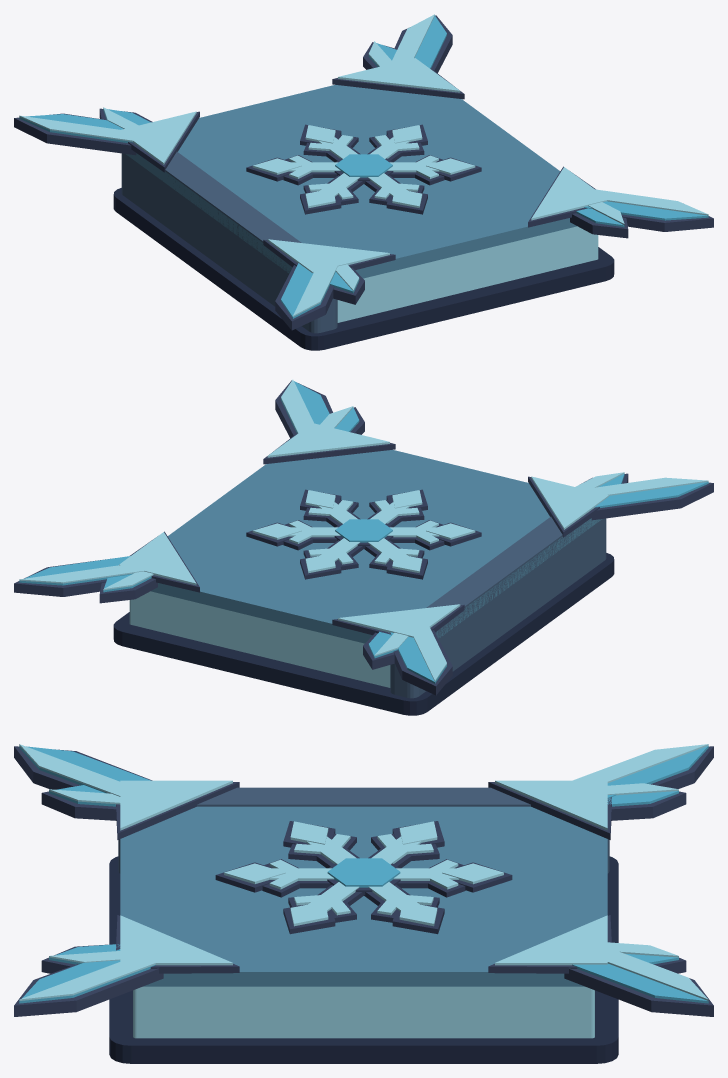
Rendered from book_gelo.fbx.
3 views of the same model, one above another, from view 1: azimuth 30°, elevation 25°; view 2: azimuth 150°, elevation 25°; view 3: azimuth 270°, elevation 25° (orthographic). The views are drawn at different scales.
Visible parts, largest first — view 1: book_gelo_livro; view 2: book_gelo_livro; view 3: book_gelo_livro.
Part boxes in pixels (x1=…): book_gelo_livro: x1=14, y1=14, x2=713, y2=350; book_gelo_livro: x1=14, y1=379, x2=713, y2=715; book_gelo_livro: x1=14, y1=744, x2=713, y2=1063.
Size of the model in its own units: 3.38 by 0.585 by 3.85.
1 material, 1 textured.
